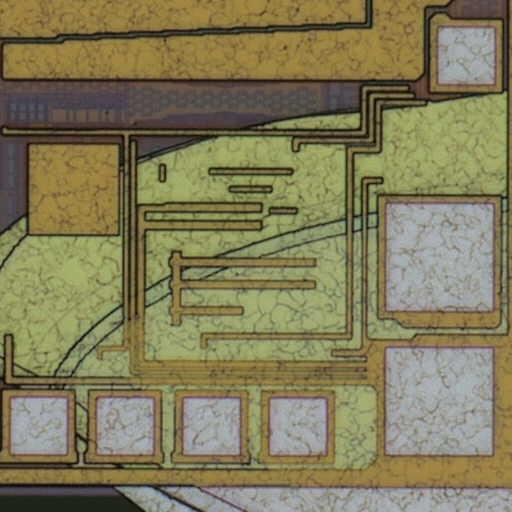COATING BAD: (1, 84, 512, 512)
